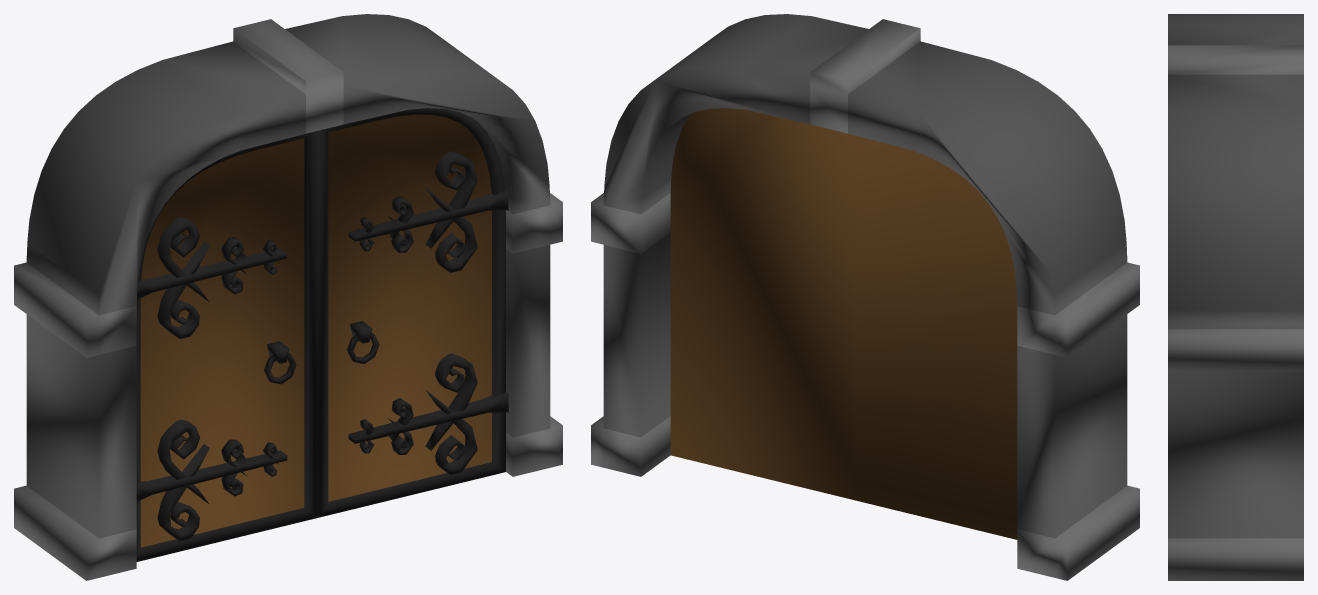
Rendered from Doar_typeB.fbx.
3 renders of one model, left to right at view 1: azimuth 30°, elevation 25°; view 2: azimuth 150°, elevation 25°; view 3: azimuth 270°, elevation 25°, orthographic. The views are drawn at different scales.
Parts seen in each view (by area): view 1: Cube.004, NurbsPath.001, NurbsPath.002; view 2: Cube.004, NurbsPath.001, NurbsPath.002; view 3: Cube.004.
Part boxes in pixels (x1,y1,x2,y2): Cube.004: (14, 14, 562, 580); NurbsPath.001: (318, 108, 508, 517); NurbsPath.002: (136, 131, 317, 561); Cube.004: (591, 14, 1139, 580); NurbsPath.001: (670, 108, 858, 500); NurbsPath.002: (858, 136, 1017, 539); Cube.004: (1168, 14, 1303, 580).
Bounding box in the file's own units: 342 × 306 × 90.
